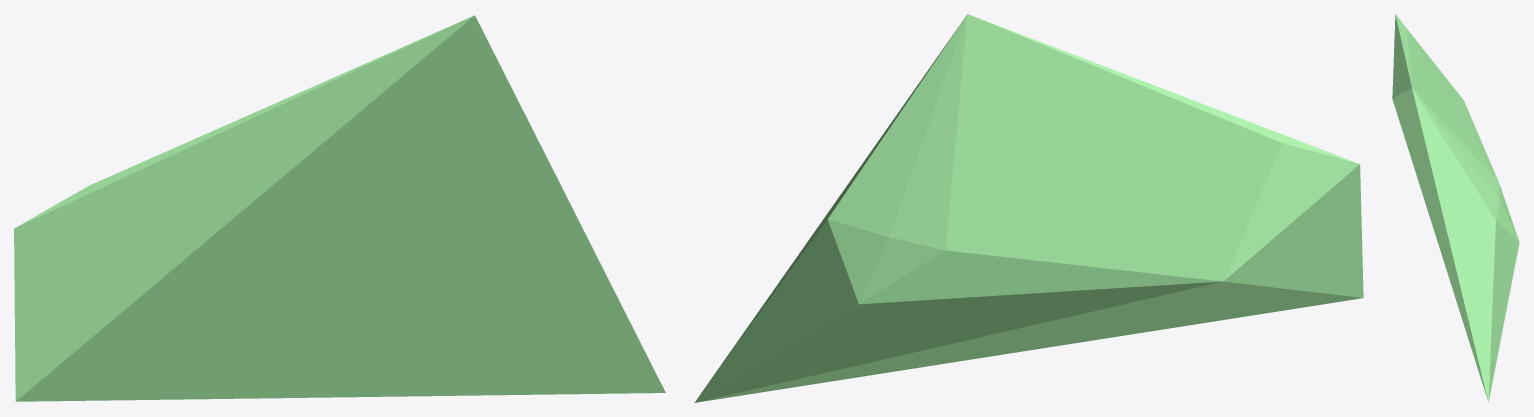
Rendered from linkhou_LR4_R560_link6_respondable_coll_30.dae.
The picture shows the model from 3 angles, left to right: view 1: azimuth 30°, elevation 25°; view 2: azimuth 150°, elevation 25°; view 3: azimuth 270°, elevation 25°; orthographic projection. The views are drawn at different scales.
Visible parts, largest first — view 1: Node_0000029808433830; view 2: Node_0000029808433830; view 3: Node_0000029808433830.
Part boxes in pixels (x1,y1,x2,y2): Node_0000029808433830: [14, 15, 665, 401]; Node_0000029808433830: [694, 14, 1363, 402]; Node_0000029808433830: [1392, 14, 1519, 402].
Size of the model in its own units: 0.0436 by 0.0279 by 0.0129.
